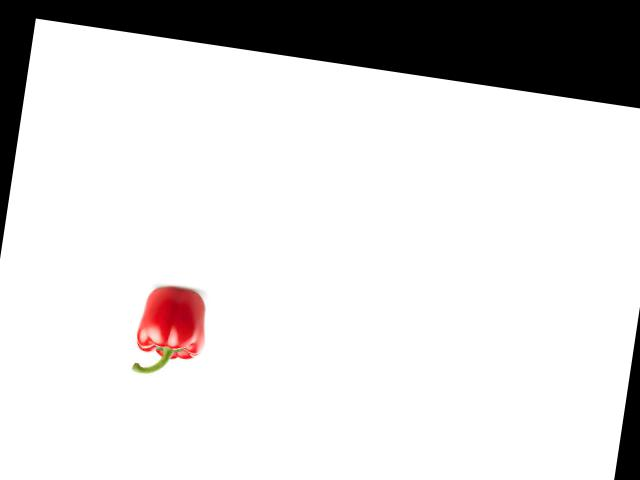bell_pepper: (129, 281, 210, 382)
